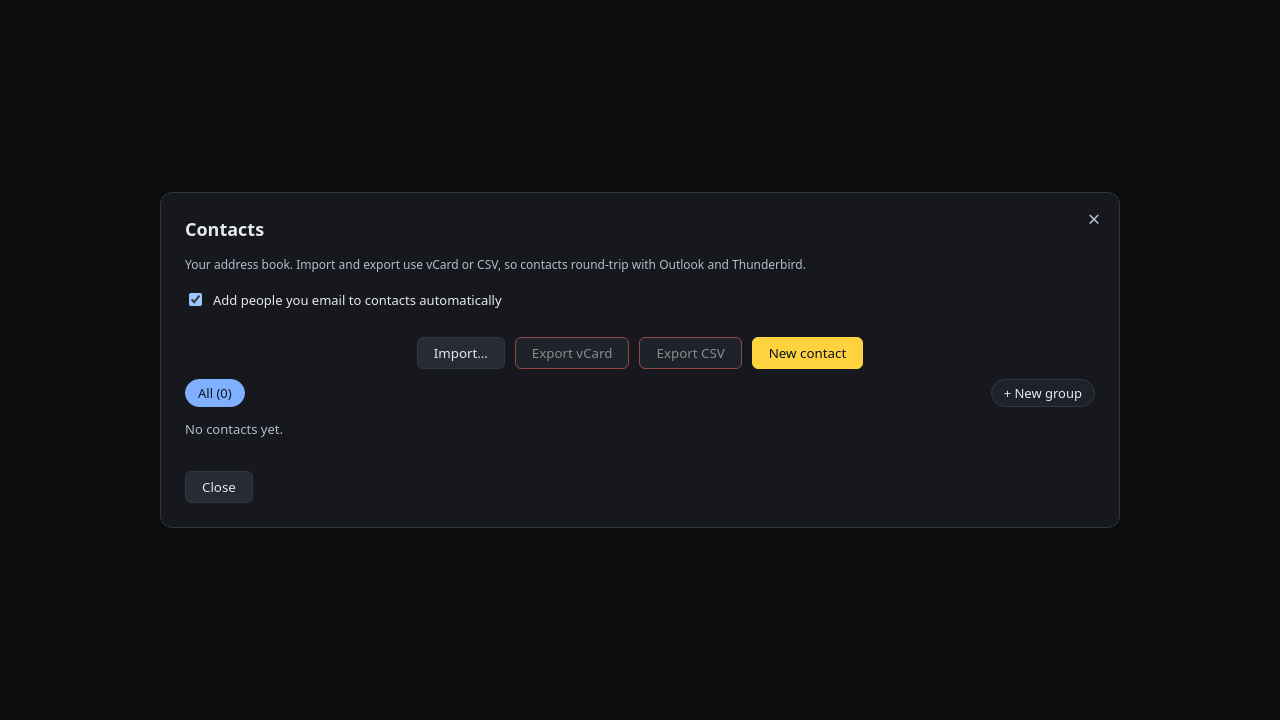
it: names the file it imported, so a small count cannot be mistaken for the wrong file
Click the button "Import…" at (461, 353), box x1=417 y1=337 x2=505 y2=369
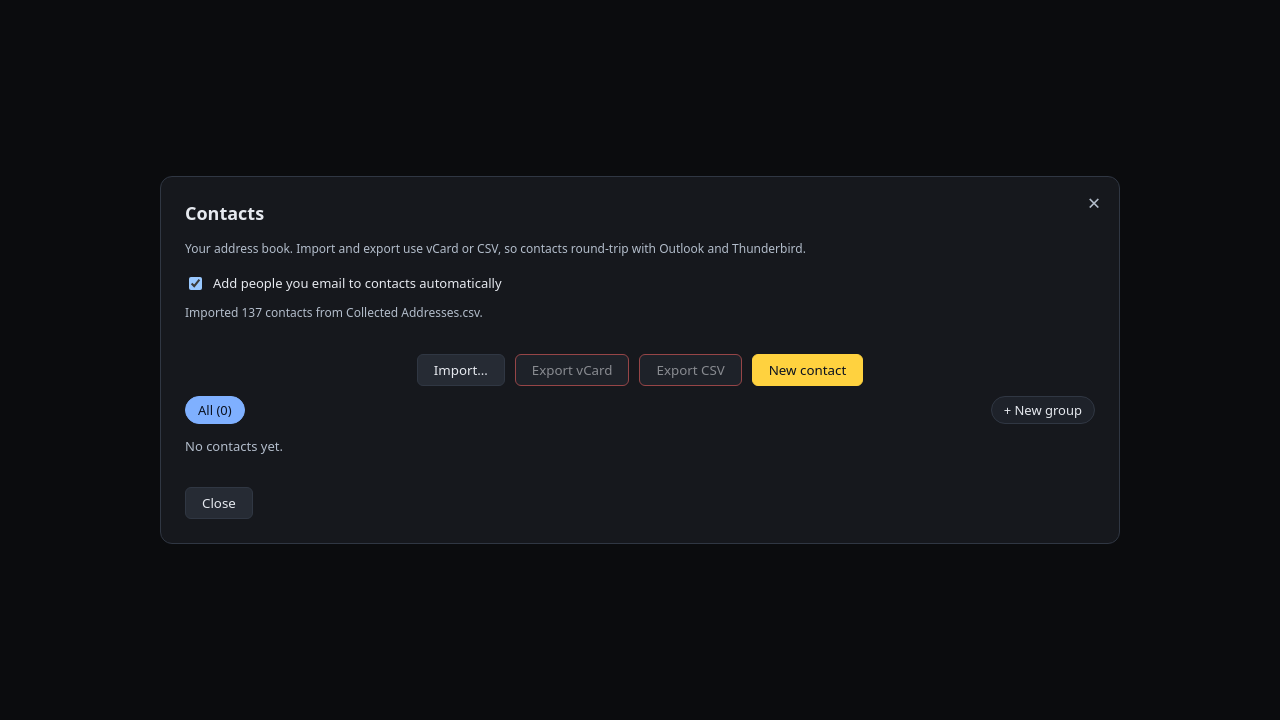
Now the text "Imported 137 contacts from Collected Addresses.csv." is shown, box x1=185 y1=304 x2=483 y2=321
